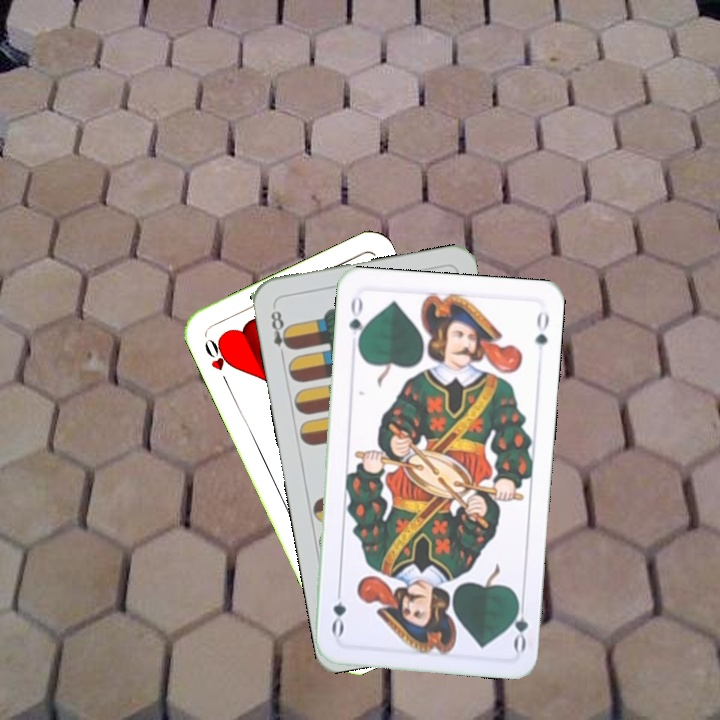E8: (266, 306, 295, 361)
GO: (505, 594, 531, 654), (345, 293, 368, 351)
HO: (200, 334, 235, 389)
